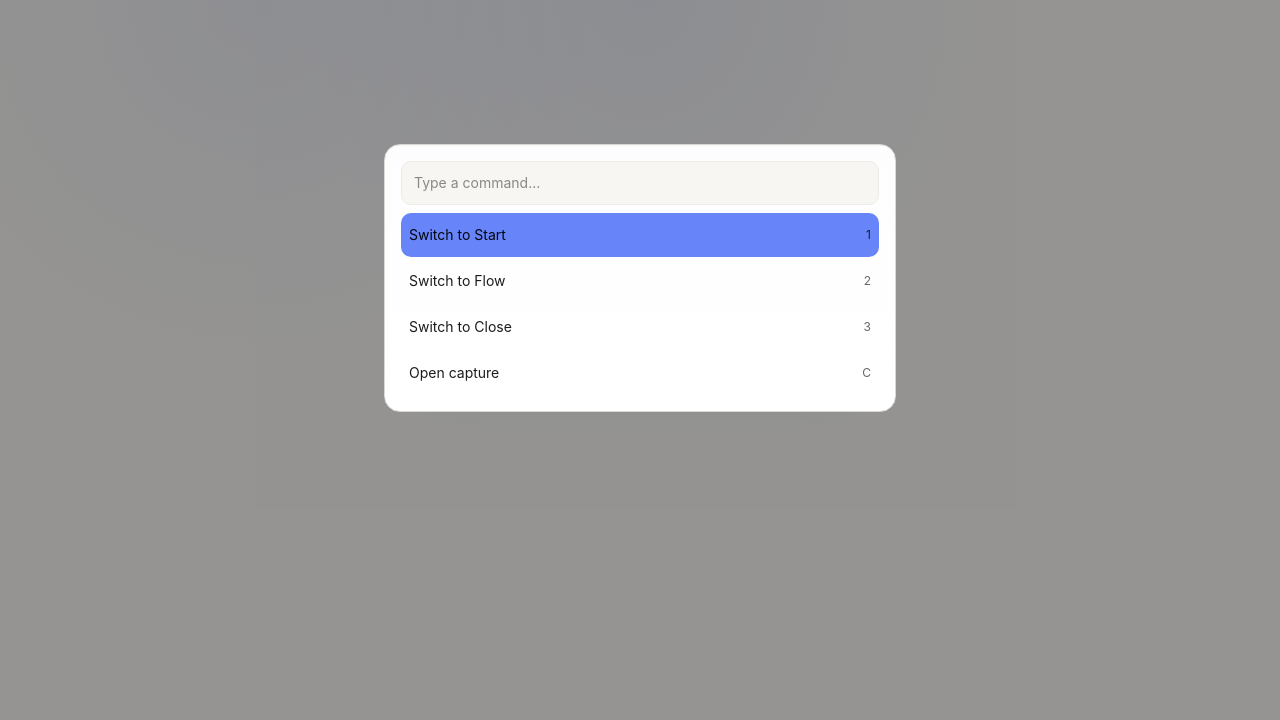
Scenario: CommandPalette › filters actions by a case-insensitive substring
The image size is (1280, 720).
Type "CAPTURE" into the dropdown with test id "command-palette-input" at [640, 183], box [401, 161, 879, 205]
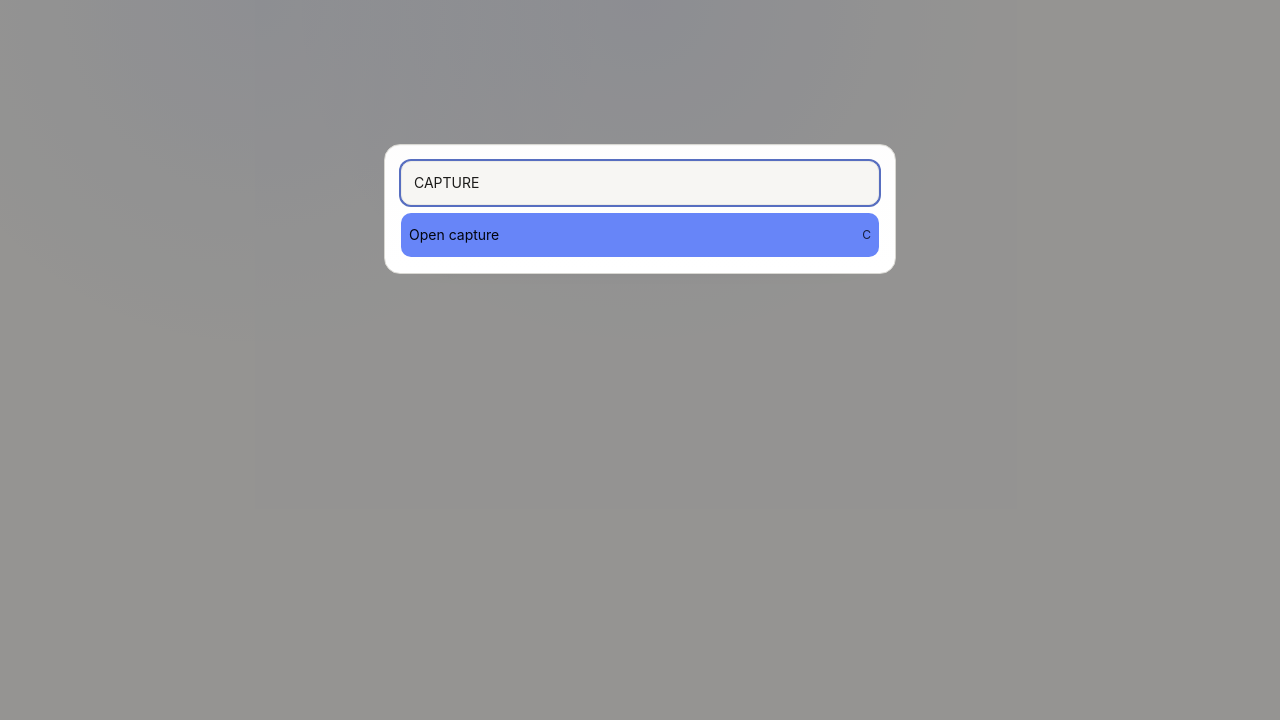
Expected: the option with test id "command-palette-option-capture" is shown, [401, 213, 879, 257]
Result: the option with test id "command-palette-option-start" is gone
